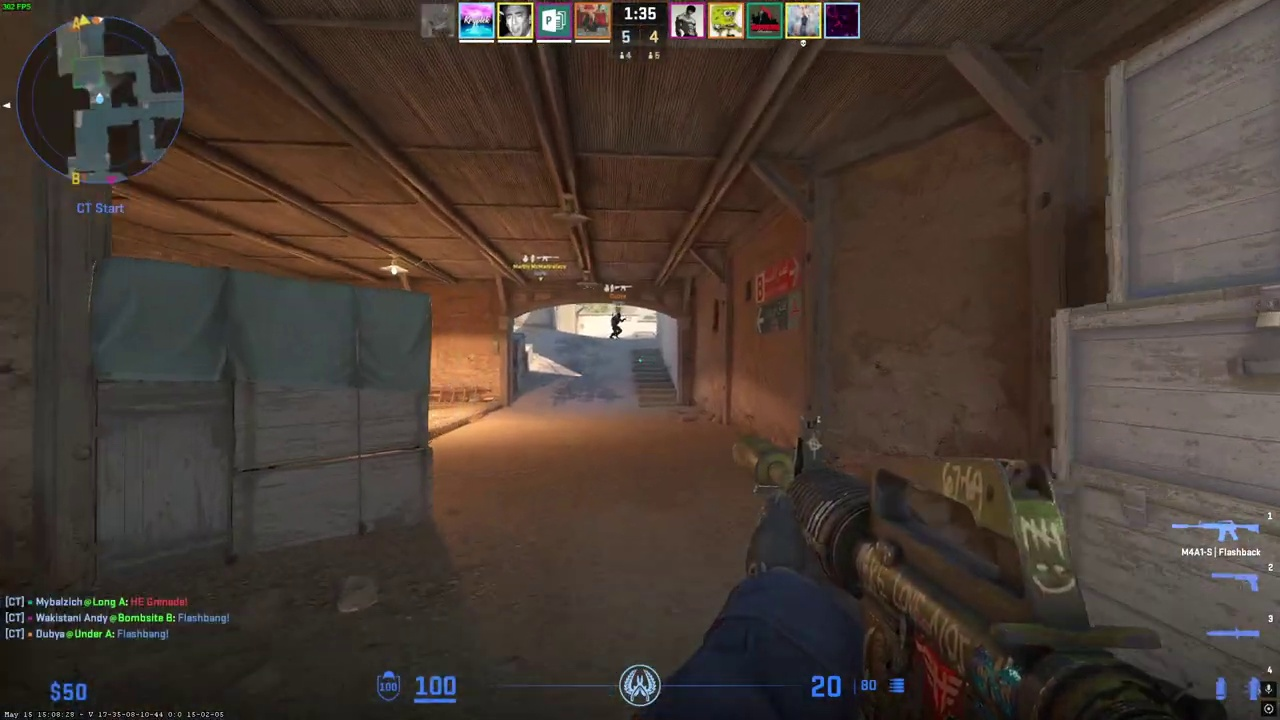CT: (611, 312, 623, 339)
